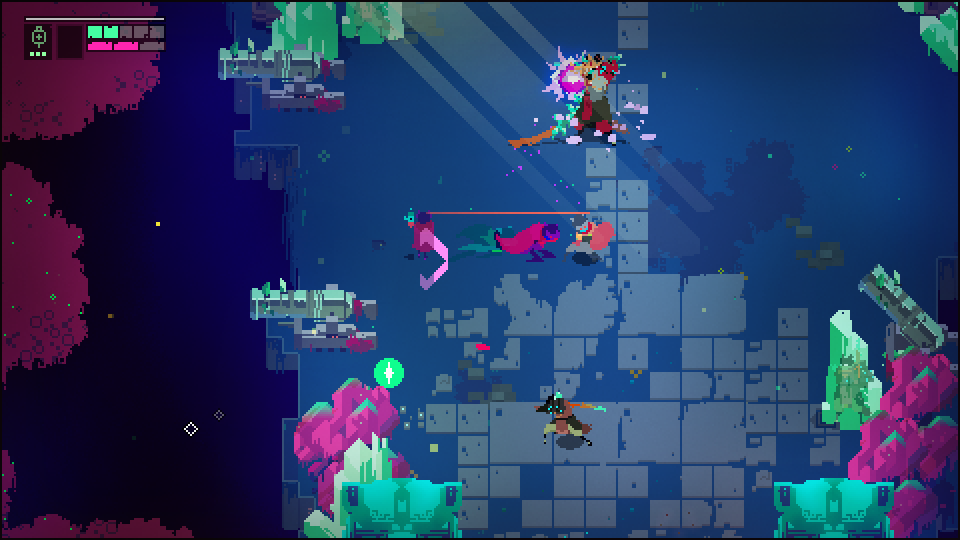hanged_man: (563, 53, 624, 146)
player: (568, 219, 618, 257)
